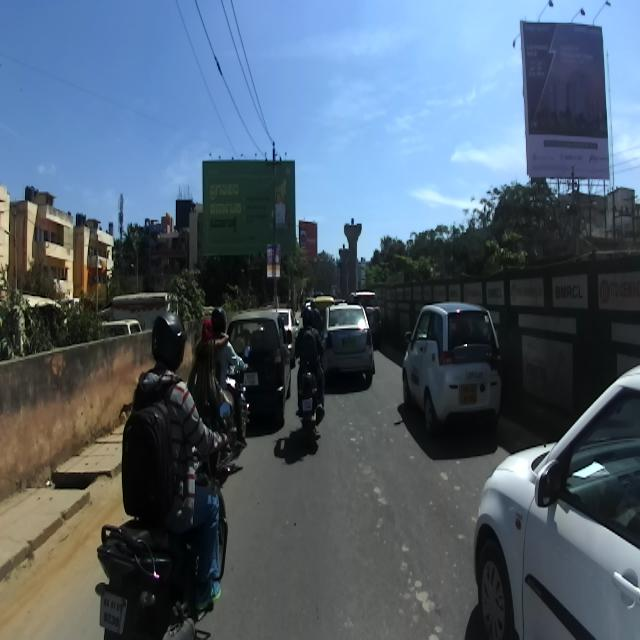car ahead at: (404, 290, 512, 438), (325, 292, 377, 378)
motorcycle ahead at: (93, 509, 187, 640)
